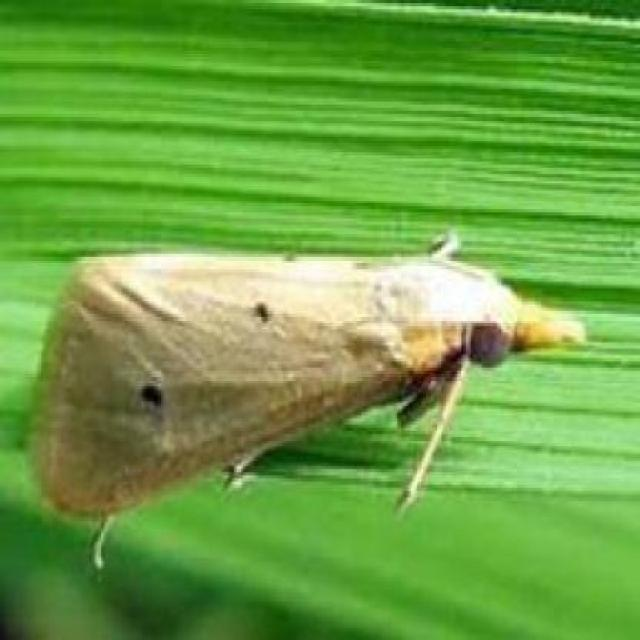stem-borer: (19, 242, 590, 530)
